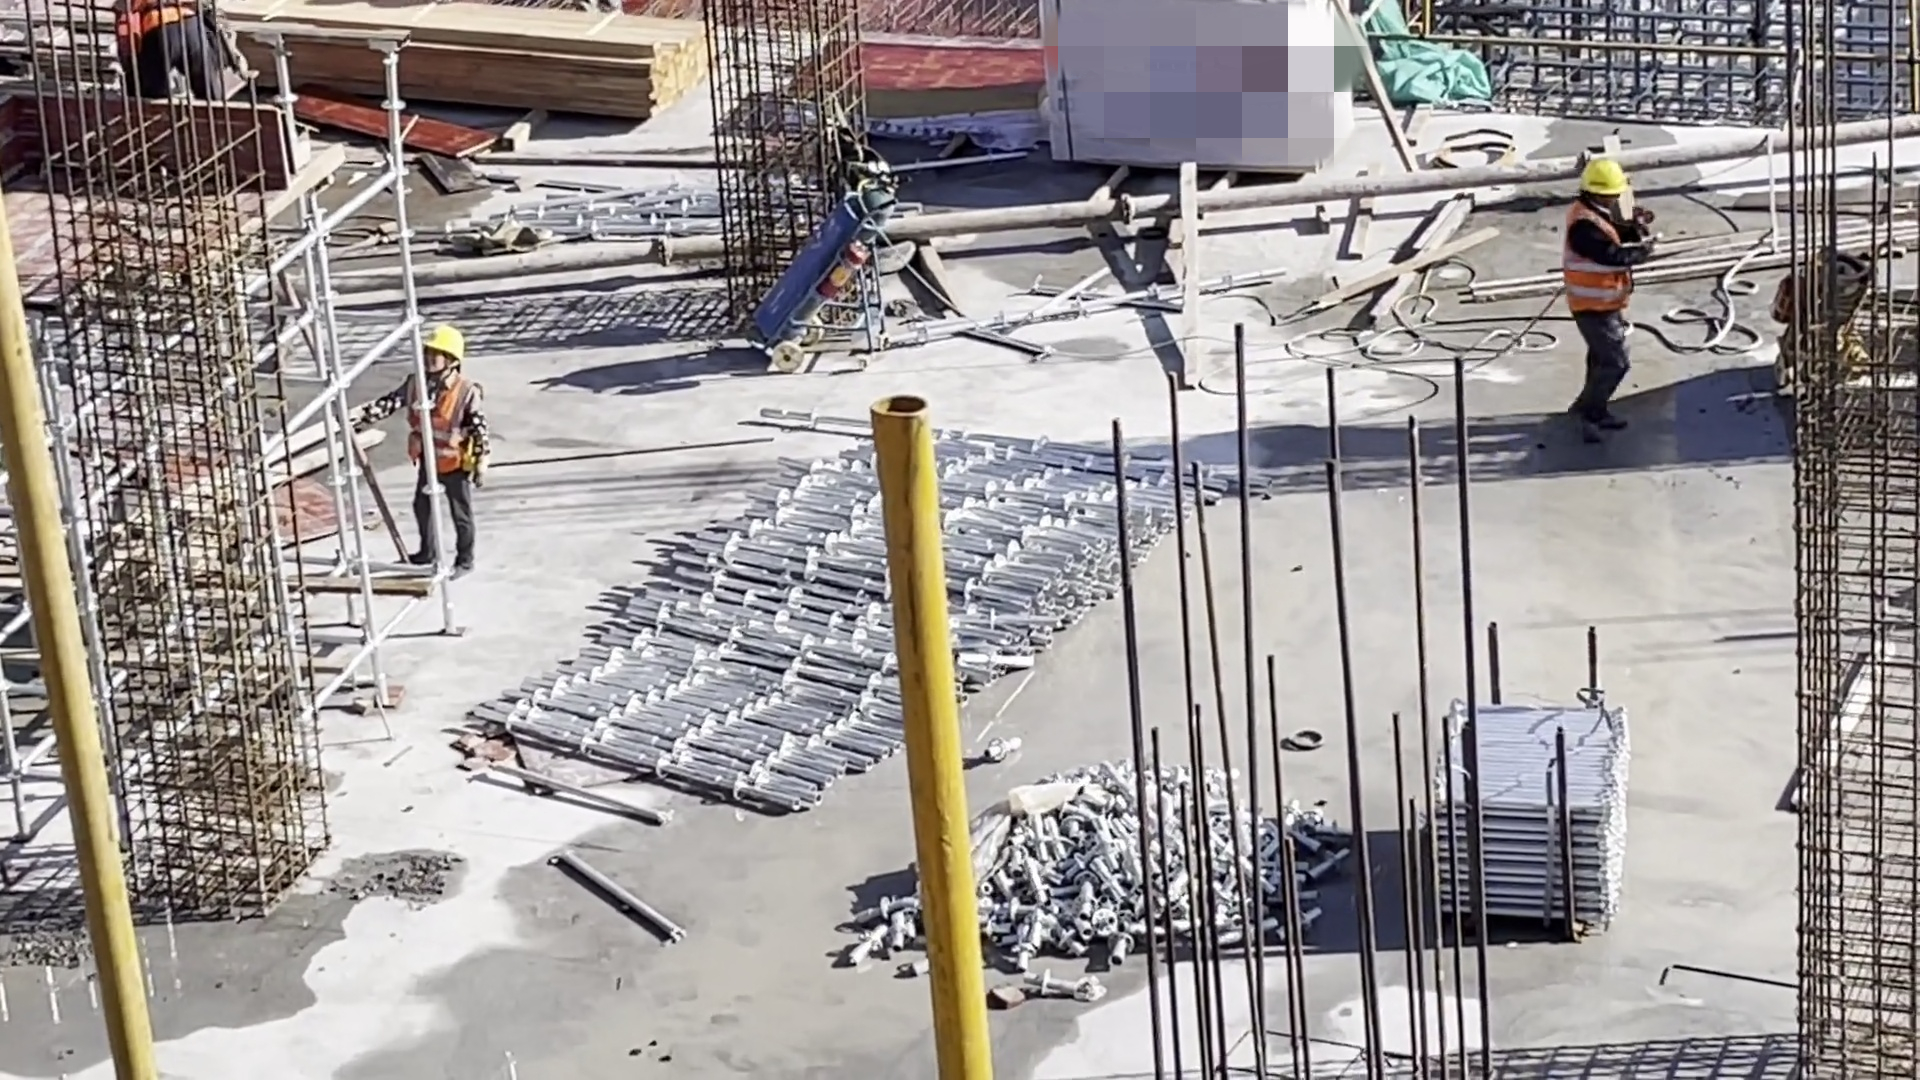helmet: (417, 329, 467, 361), (1583, 164, 1626, 194)
person: (355, 322, 496, 579), (1562, 153, 1652, 438), (104, 2, 240, 101)
scaffold: (481, 402, 1270, 823), (1432, 694, 1636, 937)
vest: (1567, 201, 1633, 318), (407, 372, 476, 478)
wood: (247, 2, 713, 125)
